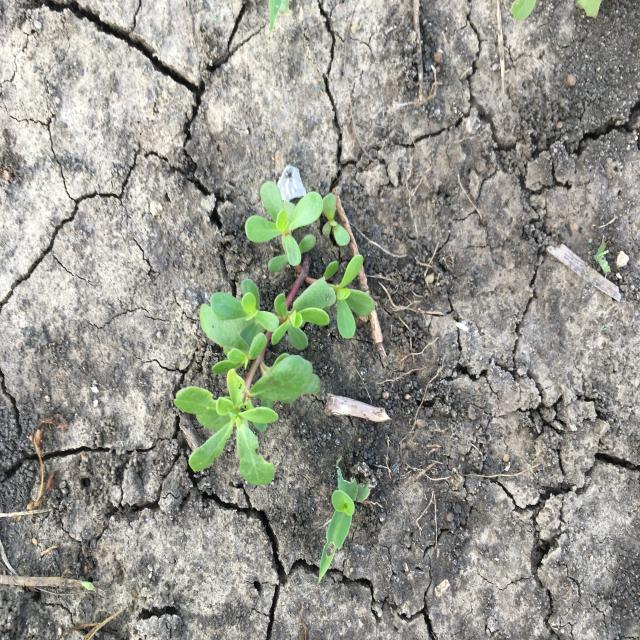Purslane: (172, 180, 378, 488)
